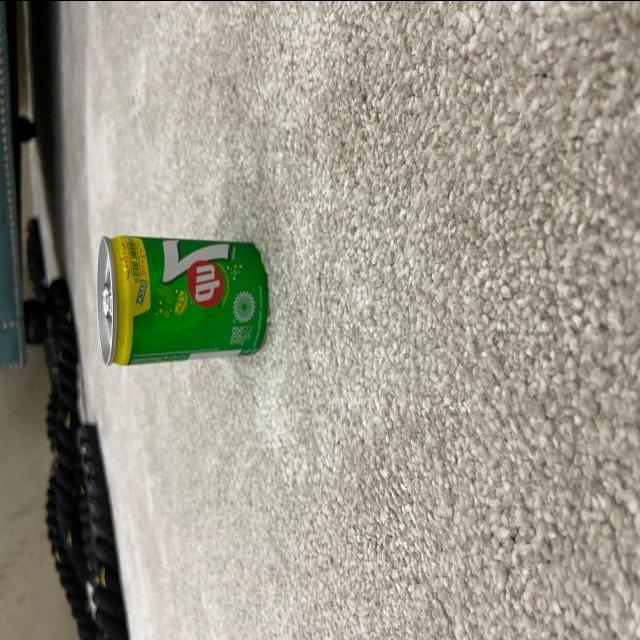can: (94, 235, 272, 366)
